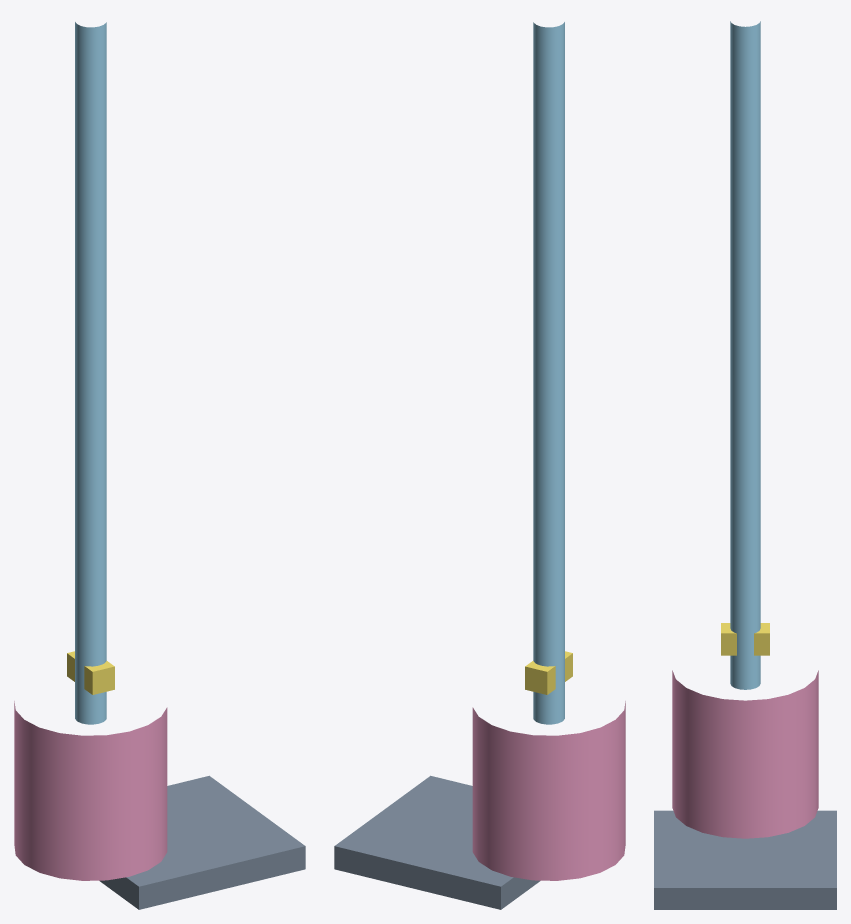
Rendered from acid_base_titration_neutralization.glb.
3 views of the same model, side by side, from view 1: azimuth 30°, elevation 25°; view 2: azimuth 150°, elevation 25°; view 3: azimuth 270°, elevation 25° (orthographic). The views are drawn at different scales.
Parts seen in each view (by area): view 1: ConicalFlaskTitrationVessel, Graduated50mlGlassBurette, RetortStandWithBuretteClamp, StopcockFluidControlValve; view 2: ConicalFlaskTitrationVessel, Graduated50mlGlassBurette, RetortStandWithBuretteClamp, StopcockFluidControlValve; view 3: ConicalFlaskTitrationVessel, Graduated50mlGlassBurette, RetortStandWithBuretteClamp, StopcockFluidControlValve.
Part boxes in pixels (box(x1,y1,x2,y2)): ConicalFlaskTitrationVessel: box(14, 701, 167, 880); Graduated50mlGlassBurette: box(75, 22, 106, 724); RetortStandWithBuretteClamp: box(99, 775, 305, 909); StopcockFluidControlValve: box(67, 651, 114, 694); ConicalFlaskTitrationVessel: box(472, 701, 625, 880); Graduated50mlGlassBurette: box(533, 22, 564, 724); RetortStandWithBuretteClamp: box(334, 775, 540, 909); StopcockFluidControlValve: box(525, 651, 572, 694); ConicalFlaskTitrationVessel: box(672, 670, 818, 838); Graduated50mlGlassBurette: box(730, 21, 760, 689); RetortStandWithBuretteClamp: box(654, 810, 836, 909); StopcockFluidControlValve: box(721, 623, 769, 655).
Size of the model in its own units: 0.42 by 1.47 by 0.3.
